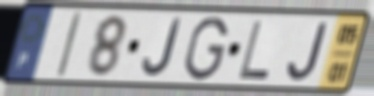8: (86, 13, 131, 80)
G: (182, 15, 230, 83)
I: (54, 9, 85, 80)
J: (285, 20, 331, 84), (140, 17, 184, 80)
L: (236, 19, 272, 81)
